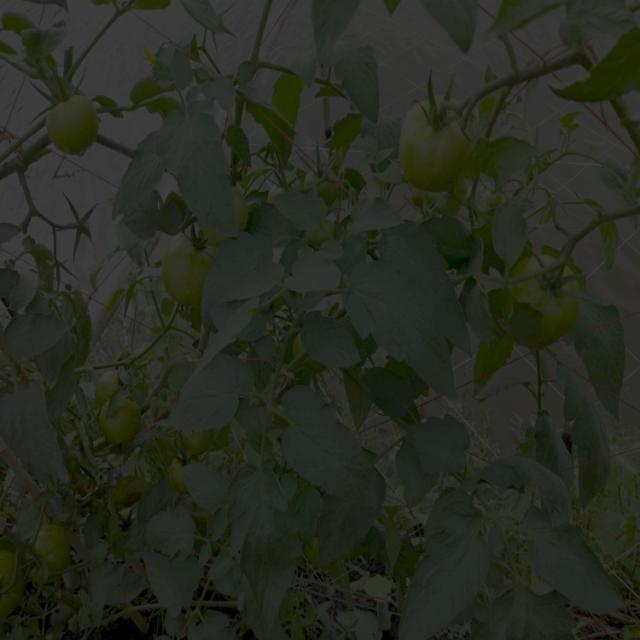tomato: (391, 93, 482, 192), (507, 249, 584, 343), (42, 99, 107, 162), (91, 371, 146, 442), (172, 243, 221, 310), (199, 188, 245, 234), (38, 522, 72, 575), (1, 547, 20, 615), (168, 456, 204, 490), (113, 511, 144, 542), (309, 172, 339, 200), (180, 429, 215, 446)
